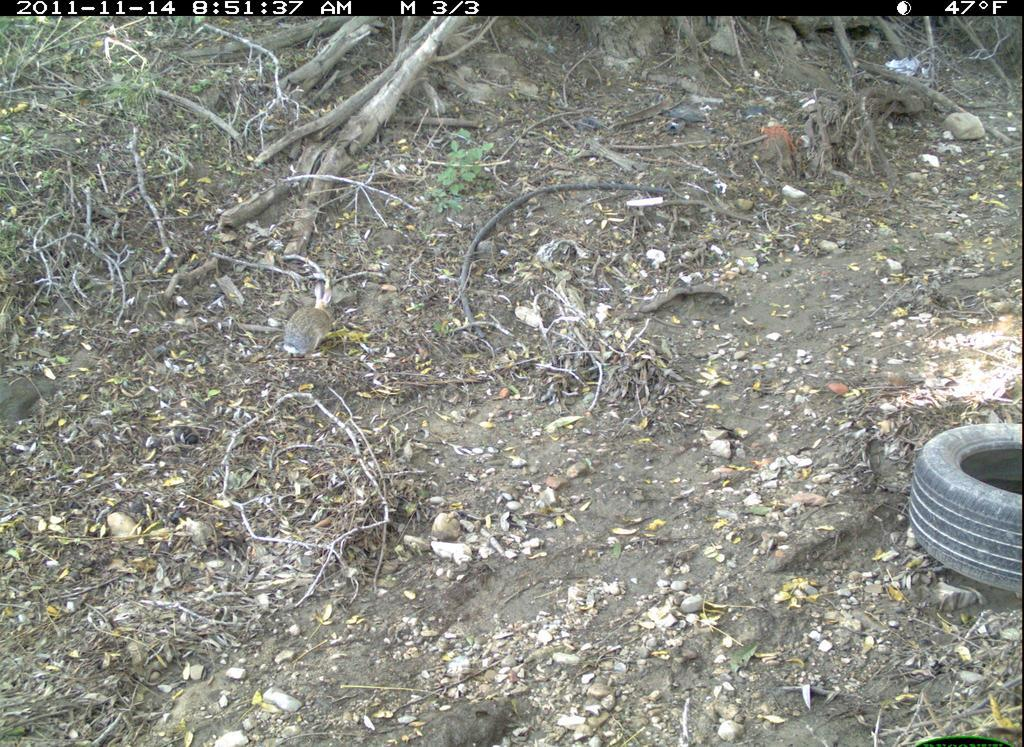rabbit: (276, 273, 344, 373)
